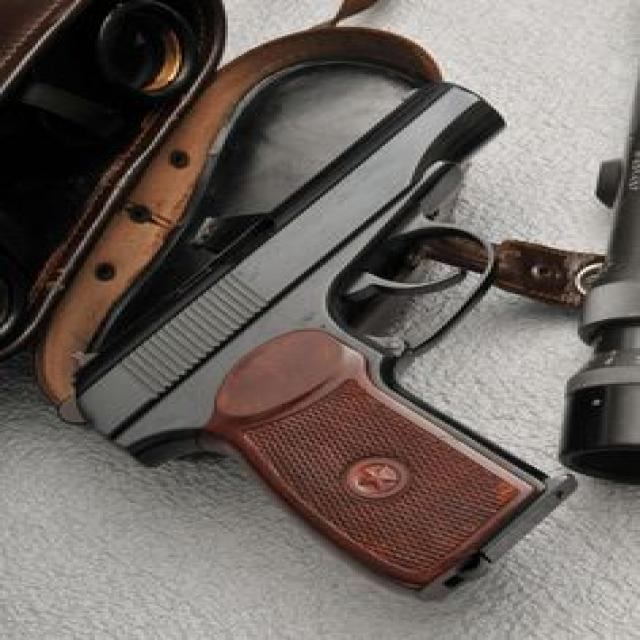semi automatic: (46, 82, 613, 608)
